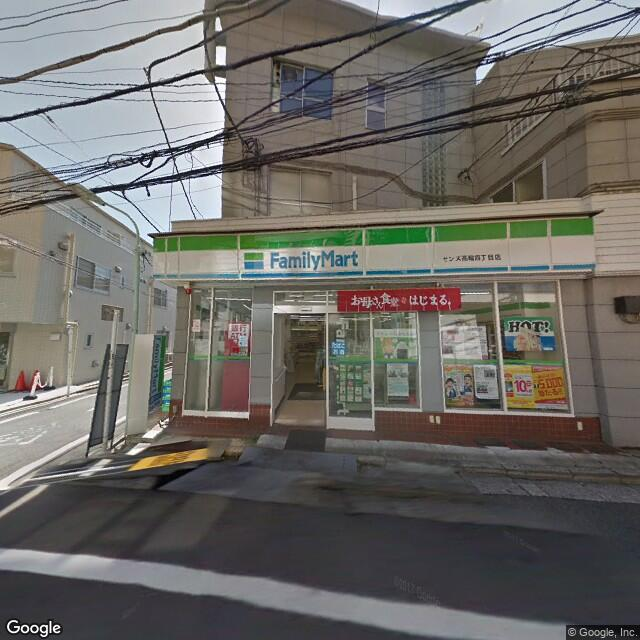family_mart: (151, 207, 599, 289)
